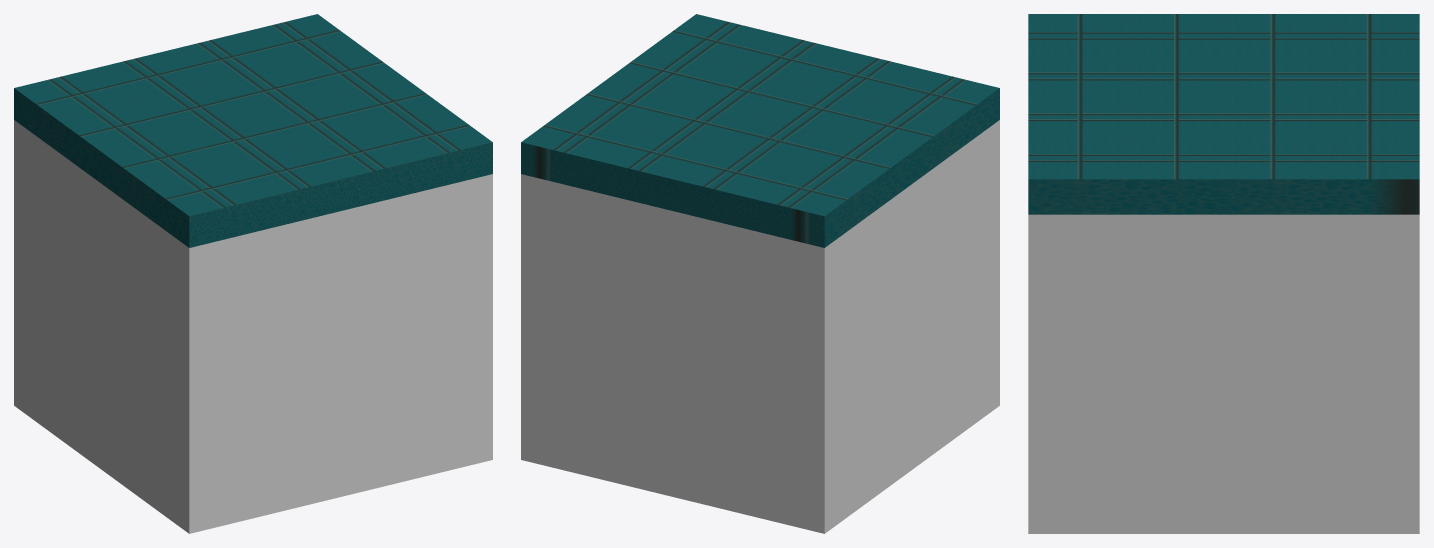
The model's file is tiles_floor.glb.
3 renders of one model, left to right at view 1: azimuth 30°, elevation 25°; view 2: azimuth 150°, elevation 25°; view 3: azimuth 270°, elevation 25°, orthographic. The views are drawn at different scales.
Visible parts, largest first — view 1: Floor_Base; view 2: Floor_Base; view 3: Floor_Base.
Boxes of the visible parts, x1=… form: Floor_Base: x1=14, y1=14, x2=492, y2=533; Floor_Base: x1=521, y1=14, x2=999, y2=533; Floor_Base: x1=1028, y1=14, x2=1419, y2=533.
Size of the model in its own units: 2 by 2 by 2.
2 materials, 1 textured.
